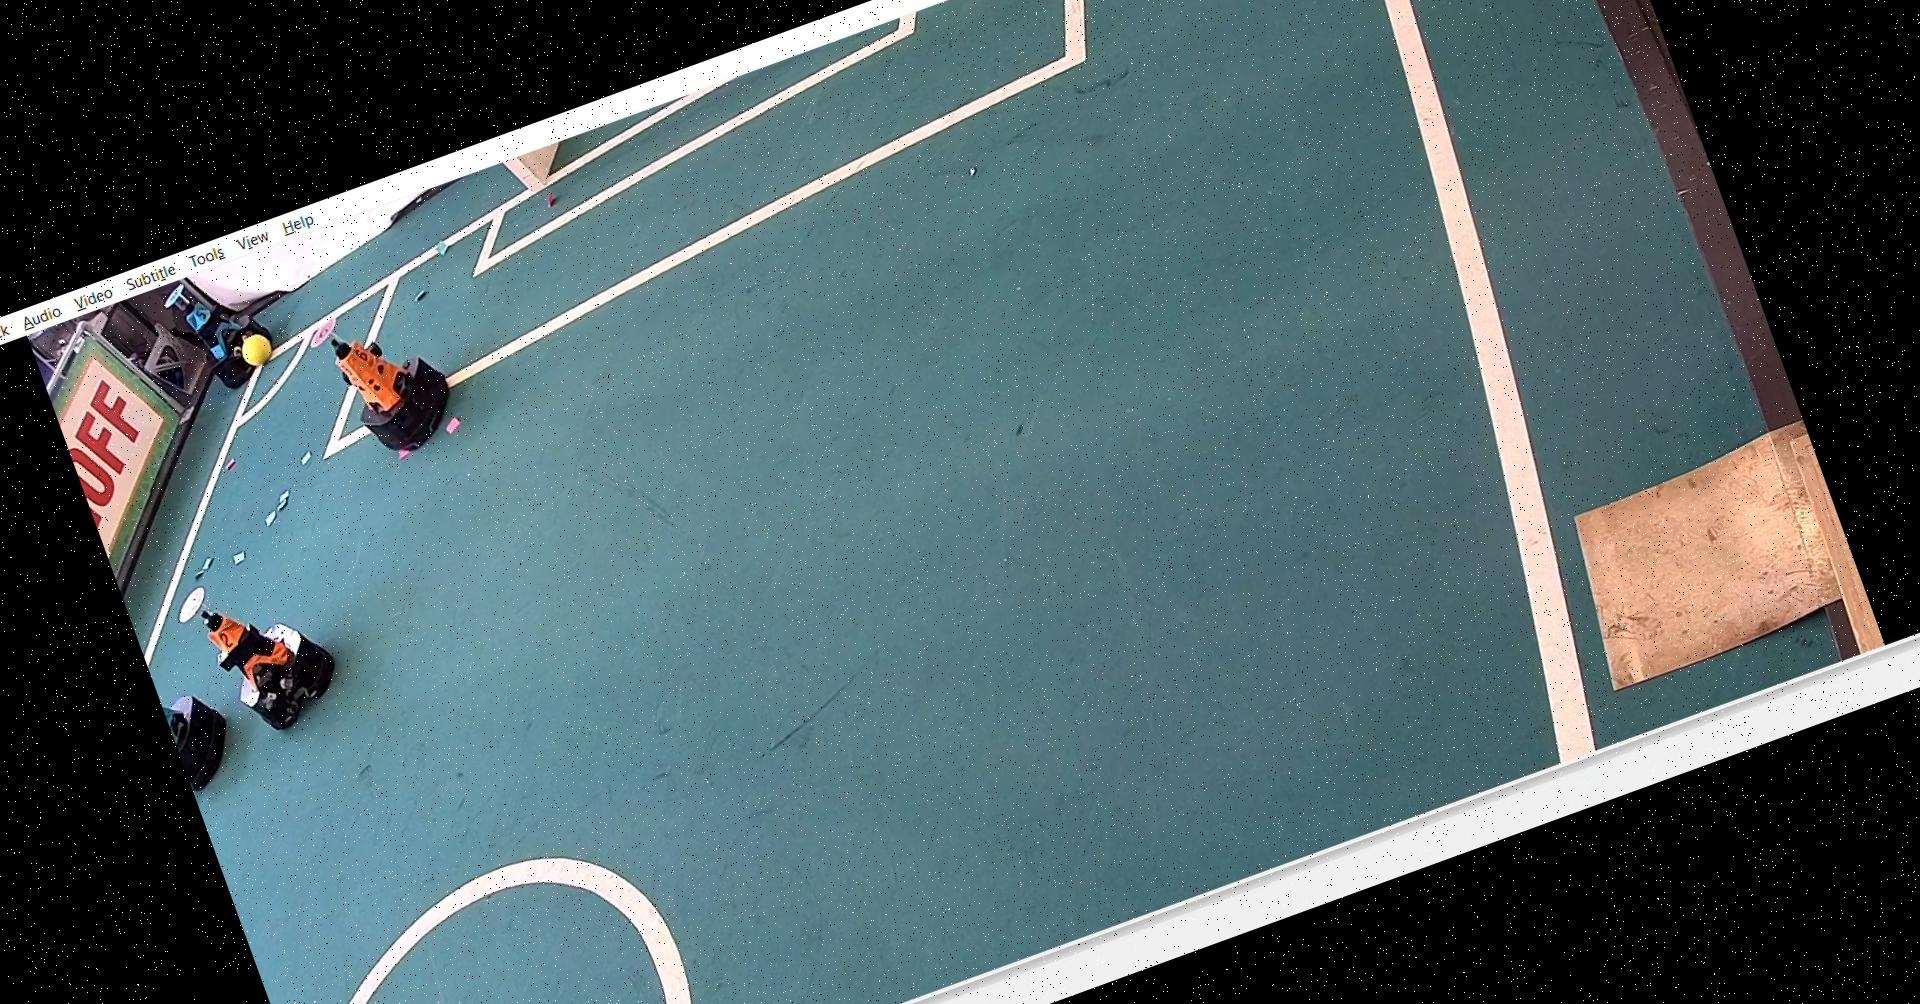Ball: (232, 322, 283, 380)
Team_Blue: (157, 259, 284, 396)
Team_Red: (164, 541, 356, 753), (303, 281, 477, 479)
